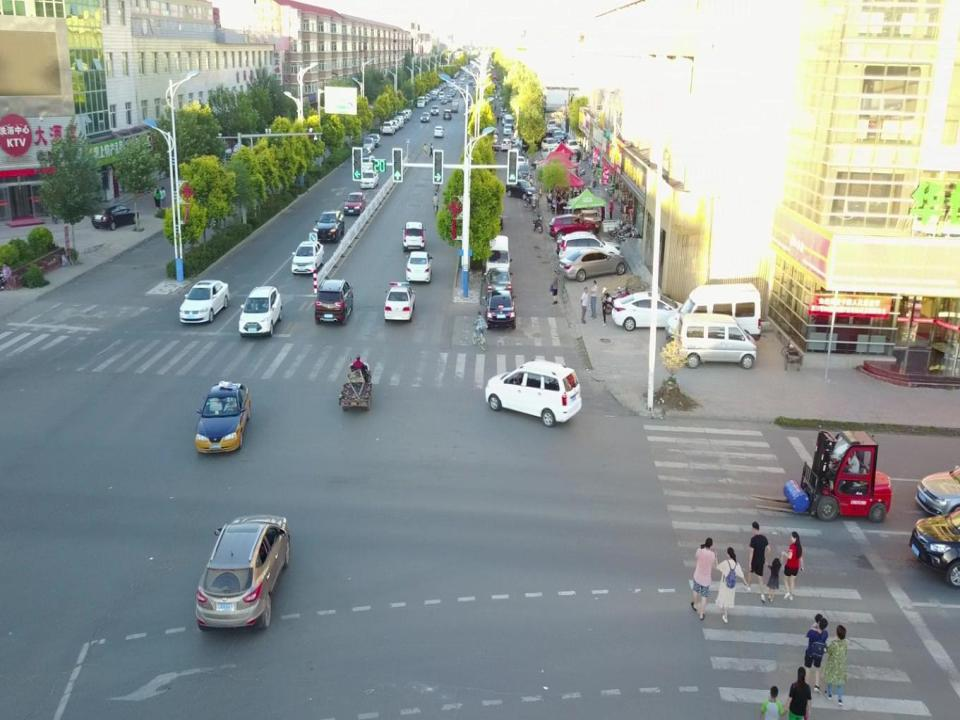car: (194, 514, 291, 631), (485, 359, 582, 427), (195, 380, 251, 454), (610, 291, 692, 332), (558, 246, 627, 283), (179, 280, 230, 324), (239, 286, 282, 338), (314, 280, 354, 326), (558, 235, 622, 263), (547, 214, 601, 242), (481, 289, 518, 329), (384, 281, 417, 323), (91, 203, 139, 231), (291, 239, 324, 275), (313, 209, 345, 244), (484, 266, 513, 302), (406, 252, 434, 284), (505, 178, 538, 202), (402, 221, 426, 252), (343, 191, 366, 216), (356, 154, 377, 174), (359, 169, 379, 189), (433, 126, 445, 138), (420, 112, 432, 123), (442, 108, 453, 120), (430, 104, 440, 116)
van: (665, 282, 762, 344), (672, 313, 757, 370), (485, 234, 513, 282)
